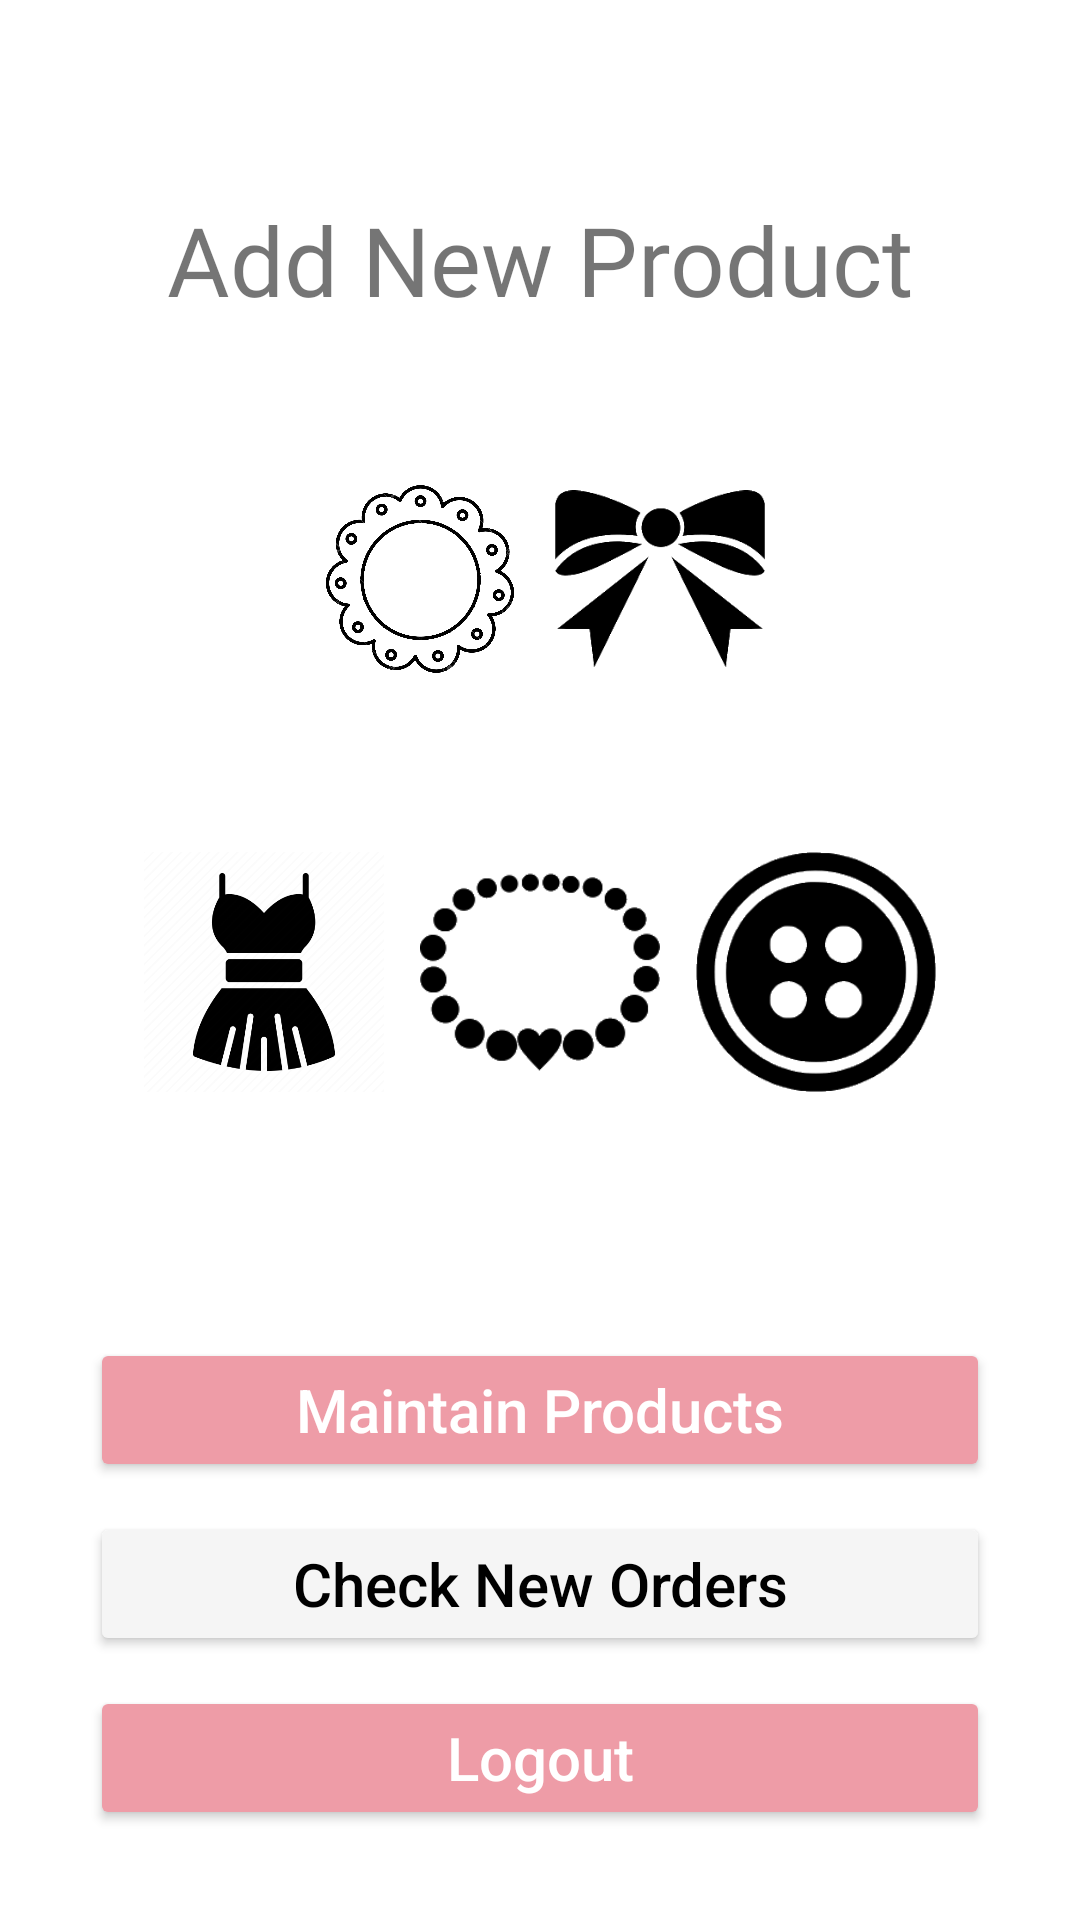

Icon click points for this 1080w x 1920h phone screenshot, format (x,y):
beads: (540,972)
lace: (420,579)
ribbon: (660,578)
woman clothes: (264,972)
